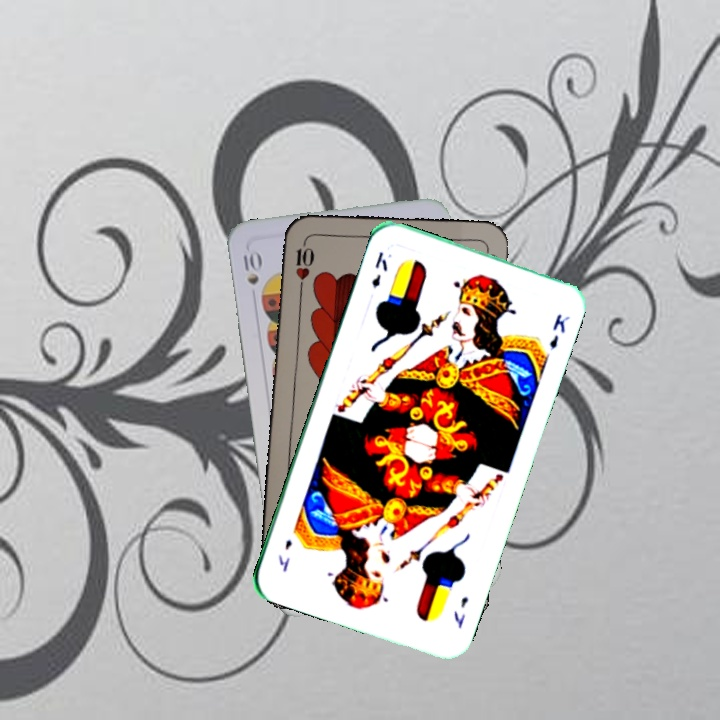EK: (367, 247, 391, 290), (449, 592, 471, 631)
H10: (291, 236, 314, 295)
S10: (239, 246, 263, 288)
